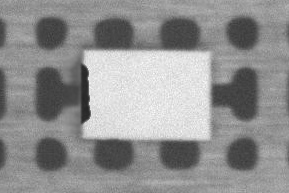DIE_BROKEN: (77, 64, 91, 124)
